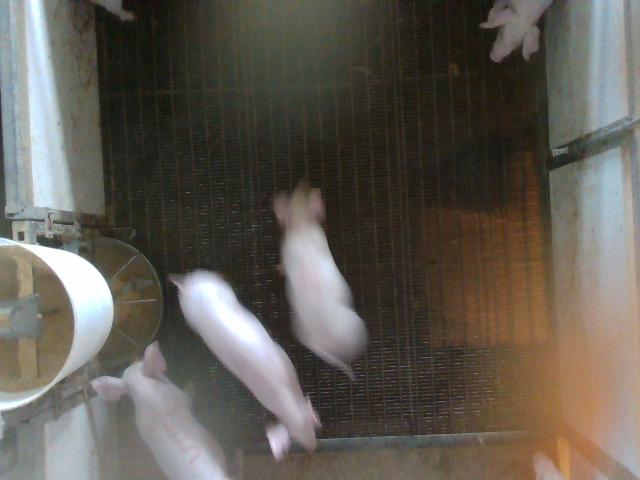pig-3: (91, 341, 229, 479)
